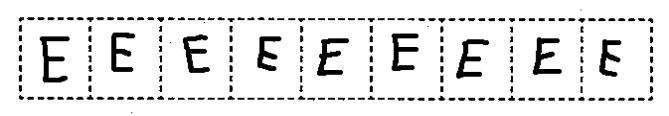E: (33, 30, 74, 87), (524, 32, 569, 78), (310, 33, 354, 80), (452, 35, 494, 83), (249, 29, 288, 77), (384, 29, 422, 77), (176, 32, 216, 77), (106, 28, 140, 77), (592, 36, 627, 81)
